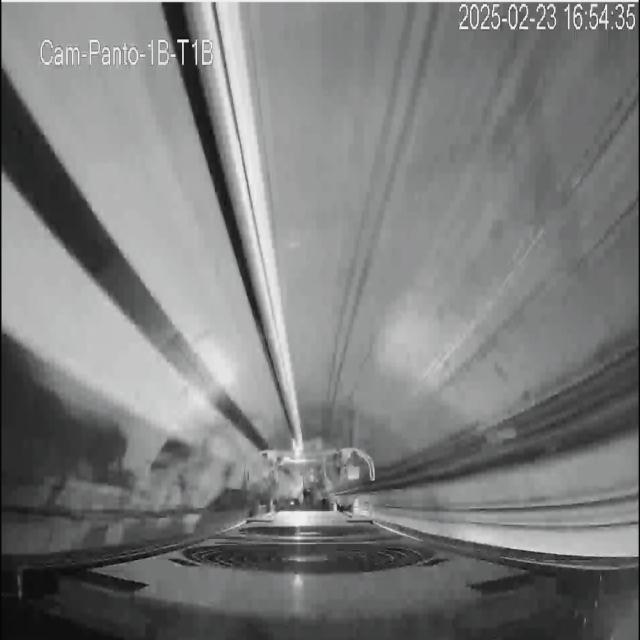Camera Stamp: (35, 29, 220, 71)
Date Stamp: (458, 3, 636, 33)
Sparks: (287, 432, 308, 464)
